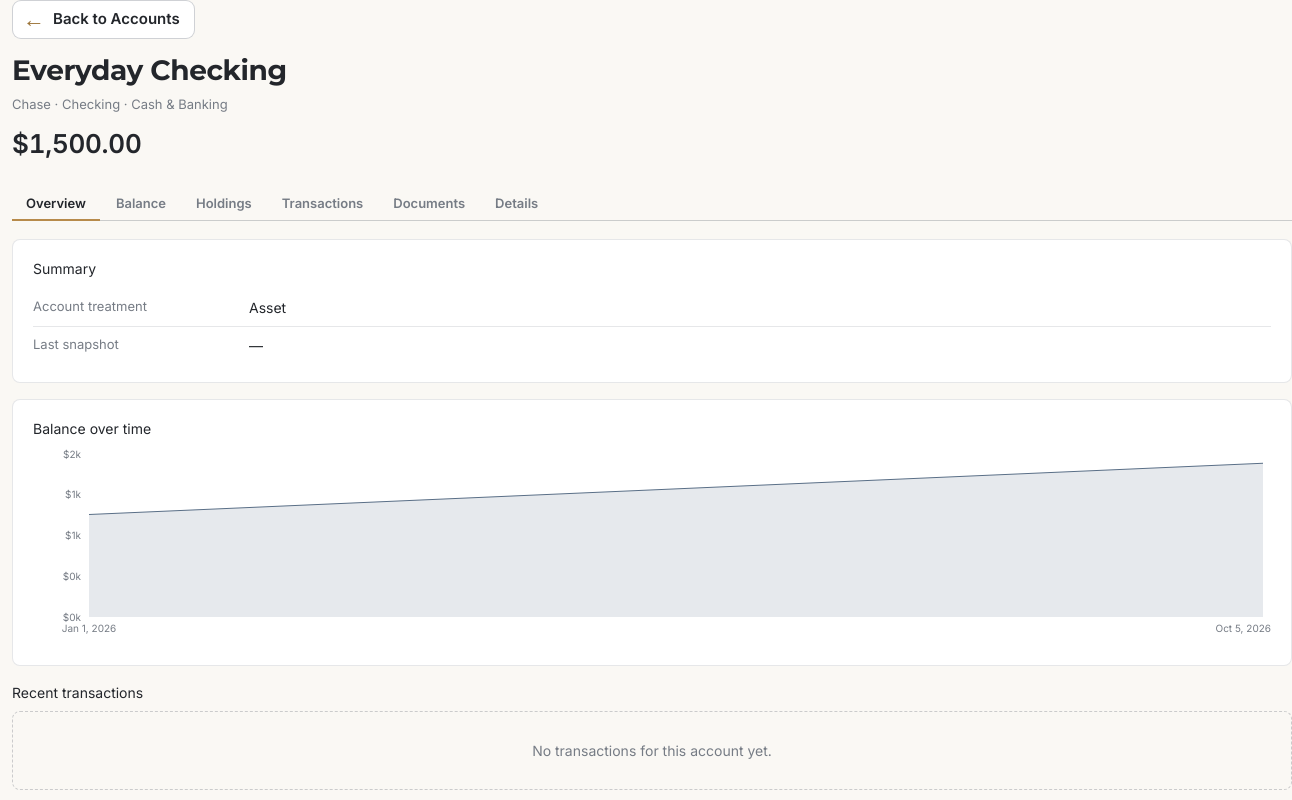
Scenario: AccountDetail tabs › shows holdings with weights and a total
expect the heading "Everyday Checking" is shown: met, box [12,48,287,90]
Click the button "Holdings": (224, 204) [182,187,266,221]
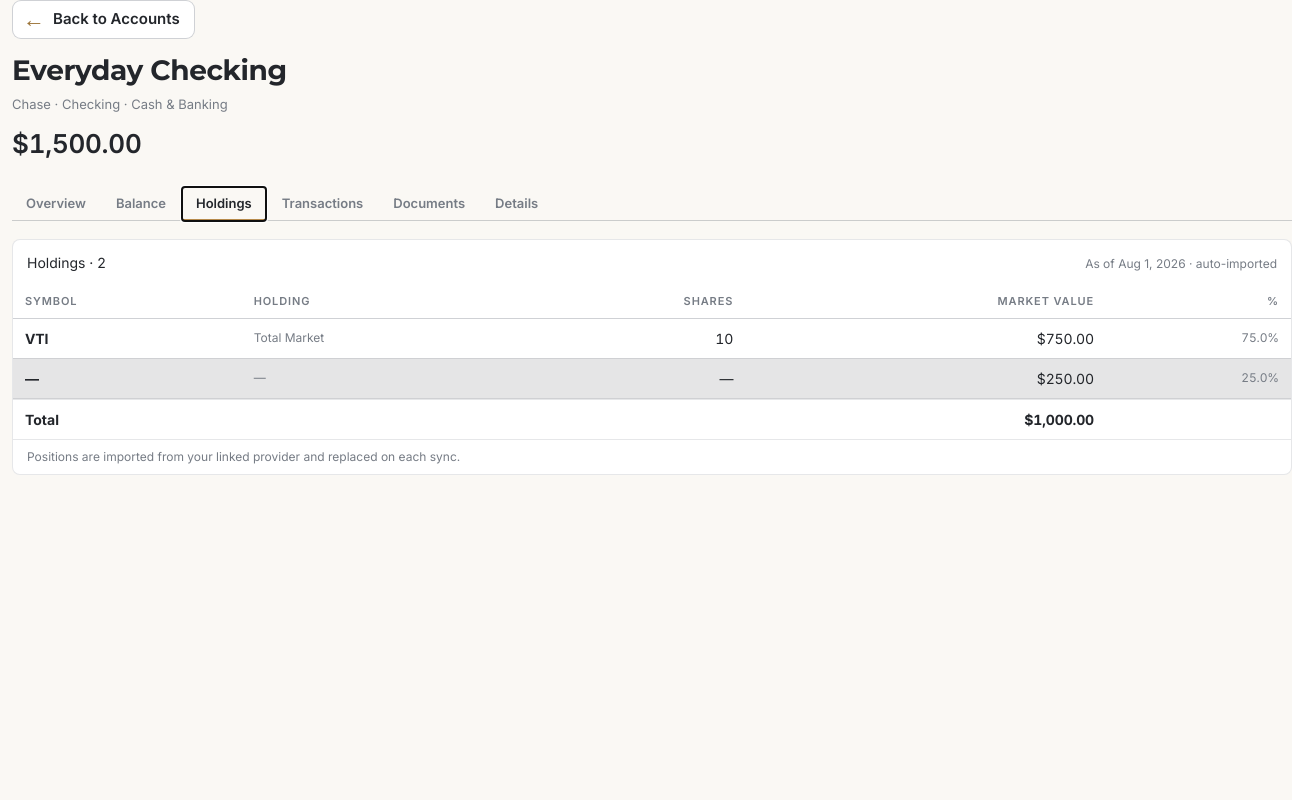
expect the text "Holdings · 2" is shown: met, box [27,252,106,273]
expect the text "VTI" is shown: met, box [25,330,48,346]
expect the text "Total Market" is shown: met, box [242,318,525,358]
